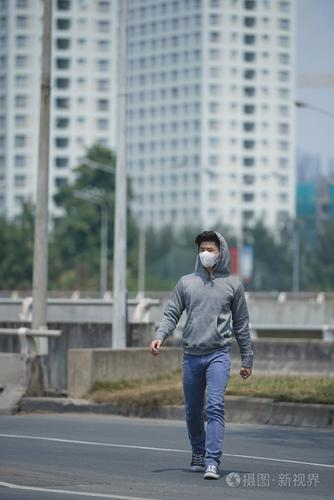mask: (196, 232, 225, 271)
